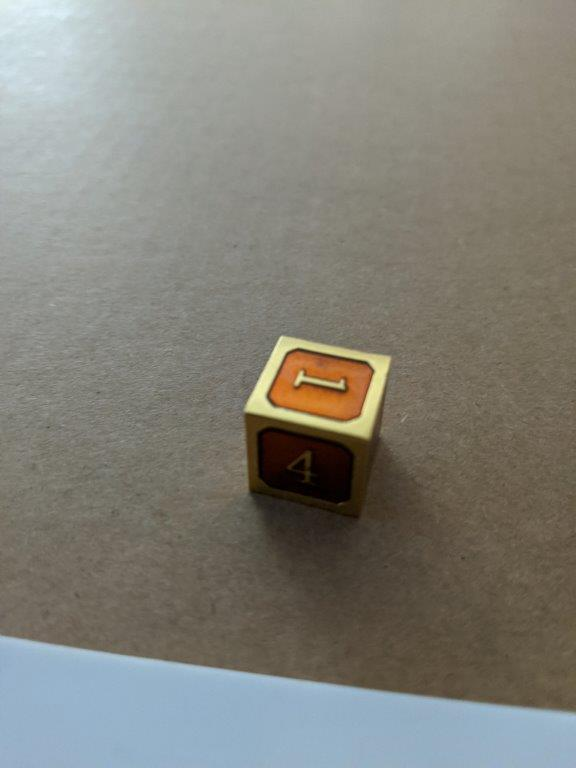d6-1: (242, 331, 396, 522)
